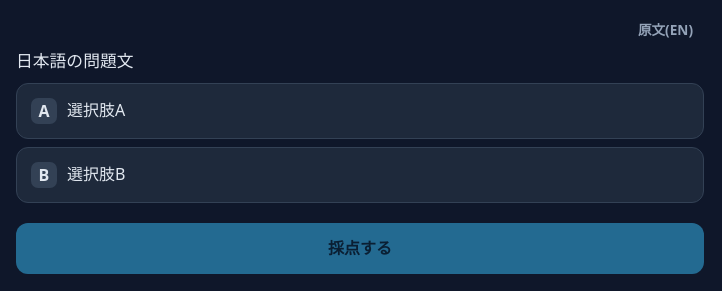
Test: QuestionView › 原文(EN)トグルで英語表示に切り替わる
Expected: the text "EN text" is not shown
Click the button "原文(EN)" at {"x": 665, "y": 30}, box [627,12,704,48]
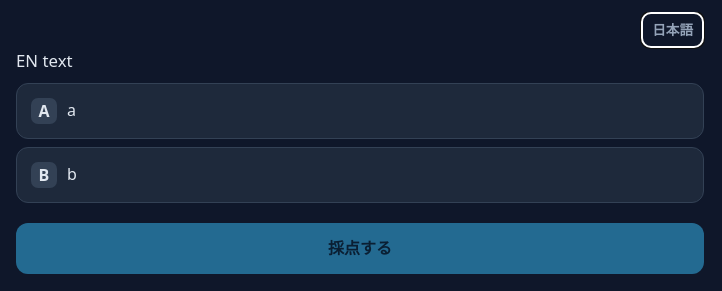
Expected: the text "EN text" is shown, [16,49,73,72]
